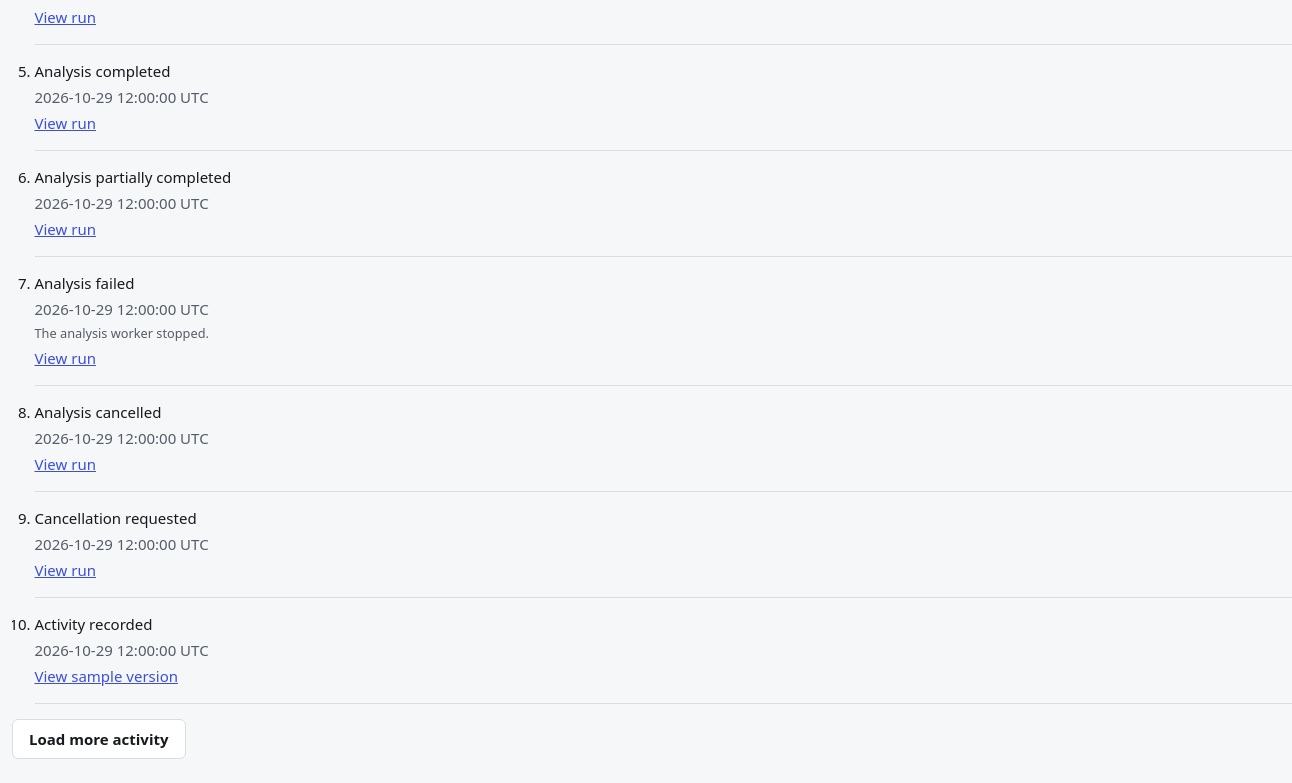
Scenario: Project activity › renders event labels and links, then loads the next page
(page scrolled)
Expected: the text "Analysis completed" is shown, [34,61,170,81]
Expected: the text "Analysis partially completed" is shown, [34,167,231,187]
Click the button "Load more activity". click: [99, 739]
box: [12,719,186,759]
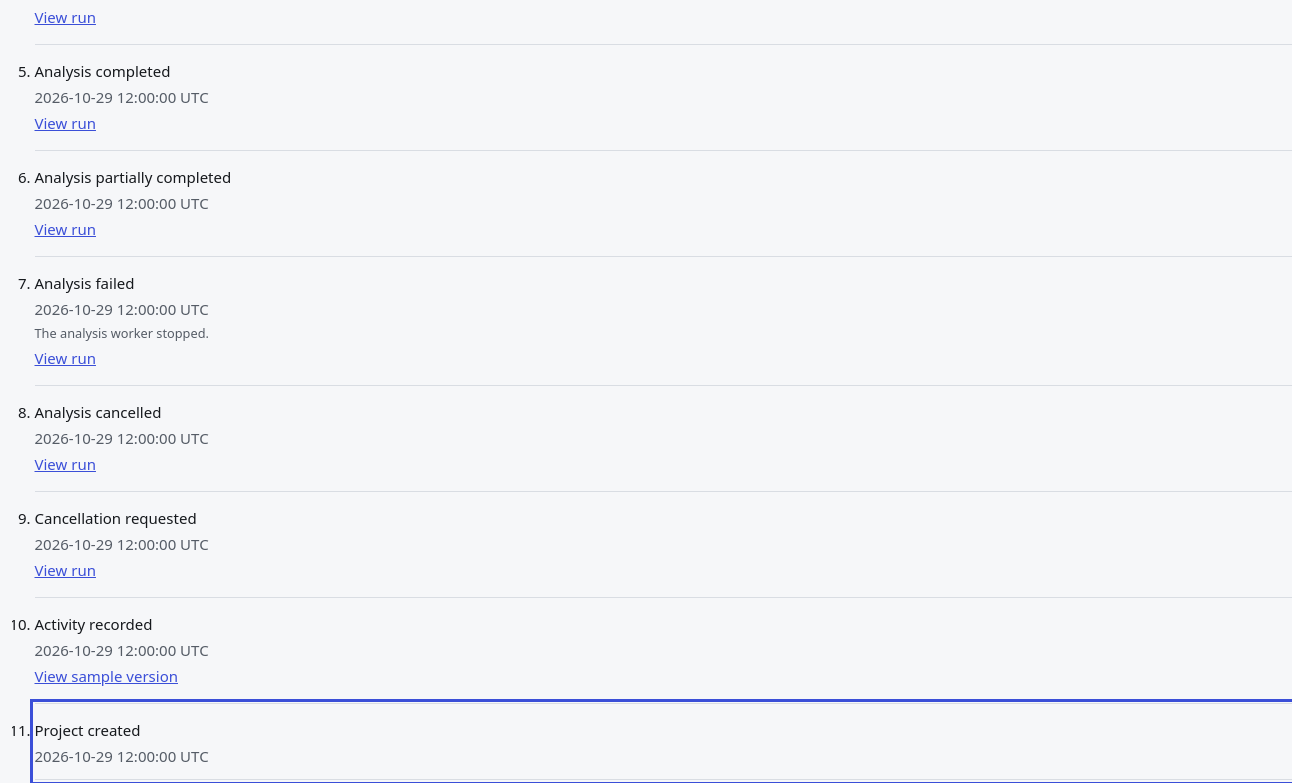
Expected: the text "Project created" is shown 2 times
Expected: the button "Load more activity" is gone
